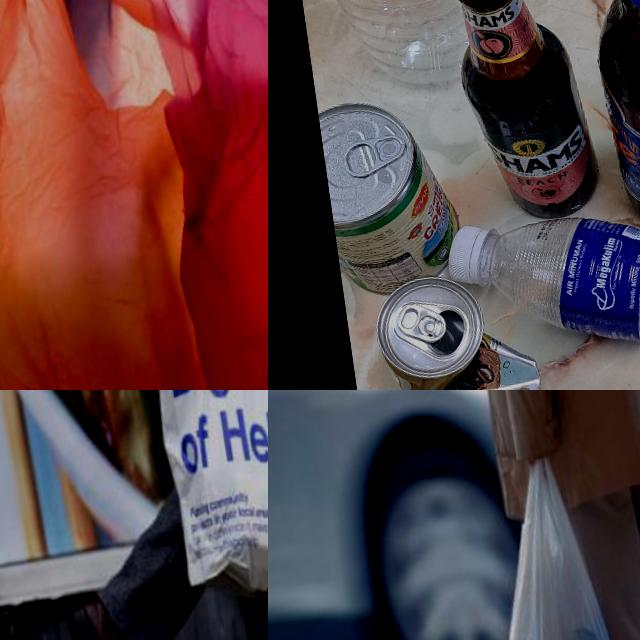aba de lata: (395, 298, 455, 353), (346, 136, 410, 179)
garrafa de vidro: (441, 0, 606, 228), (570, 0, 640, 245)
garrafa plástica: (443, 173, 640, 390), (287, 0, 493, 101)
lata: (318, 95, 465, 301), (371, 263, 553, 390)
sacola plástica: (0, 0, 219, 390), (100, 0, 268, 390), (461, 431, 640, 640), (131, 390, 268, 624)
tampa plástica: (441, 216, 504, 294)
